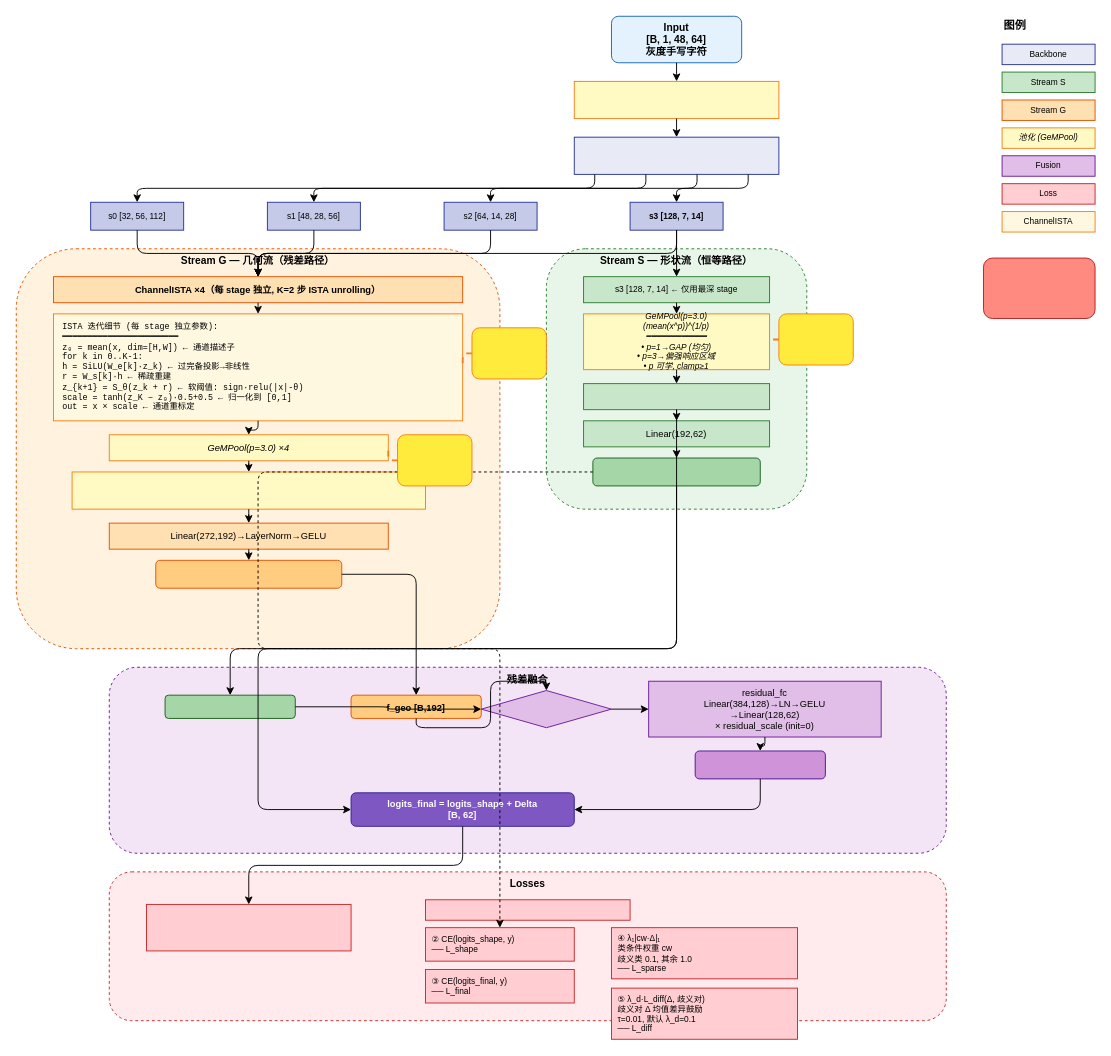
This 1111x1056 diagram has some shape labels left out. Each missing label, with the centre of its shape:
"Concat [B, 384]" belongs at point (545, 709).
"Delta [B, 62]" belongs at point (759, 764).
"f_geo [B, 192]" belongs at point (248, 573).
"f_shape [B,192]" belongs at point (229, 706).
"Linear(128,192)→LN→GELU" belongs at point (676, 396).
"logits_shape [B, 62]" belongs at point (676, 471).
"MobileNetV4 conv_small (~1.26M) features_only (0,1,2,3)" belongs at point (676, 155).
"Preprocess resize → gray→RGB → ImageNet norm" belongs at point (676, 99).
"residual_loss (losses.py)" belongs at point (527, 909).
"s0→[32] s1→[48] s2→[64] s3→[128] ↓ concat [B, 32+48+64+128] = [B, 272]" belongs at point (248, 490).
"① FocalLoss(logits_final, y) γ=2.0, smoothing=0.1 ── loss_main" belongs at point (248, 927).
"⚠ 信号冗余 ①②③ 三个 CE 同时作用在 62 维 logit 空间" belongs at point (1039, 288).
"池化 #1 GeMPool ↓ 强度感知 全局池化" belongs at point (815, 339).
"池化 #2 mean(H,W) ↓ 通道描述子 (ISTA 内部)" belongs at point (508, 353).
"池化 #3 GeMPool ×4 ↓ 多尺度 强度池化" belongs at point (434, 460).
